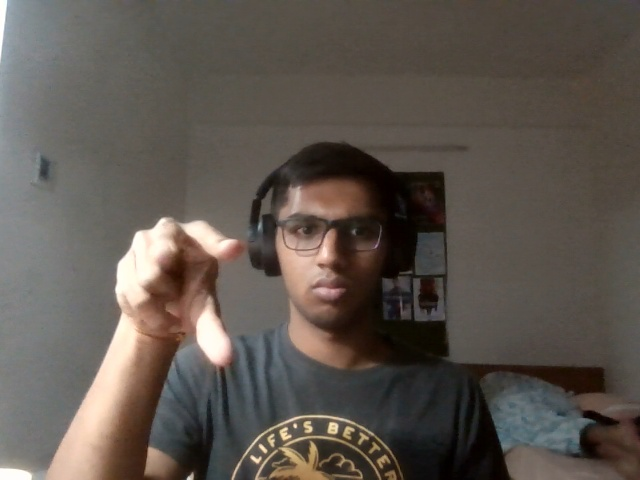no: (109, 207, 262, 372)
